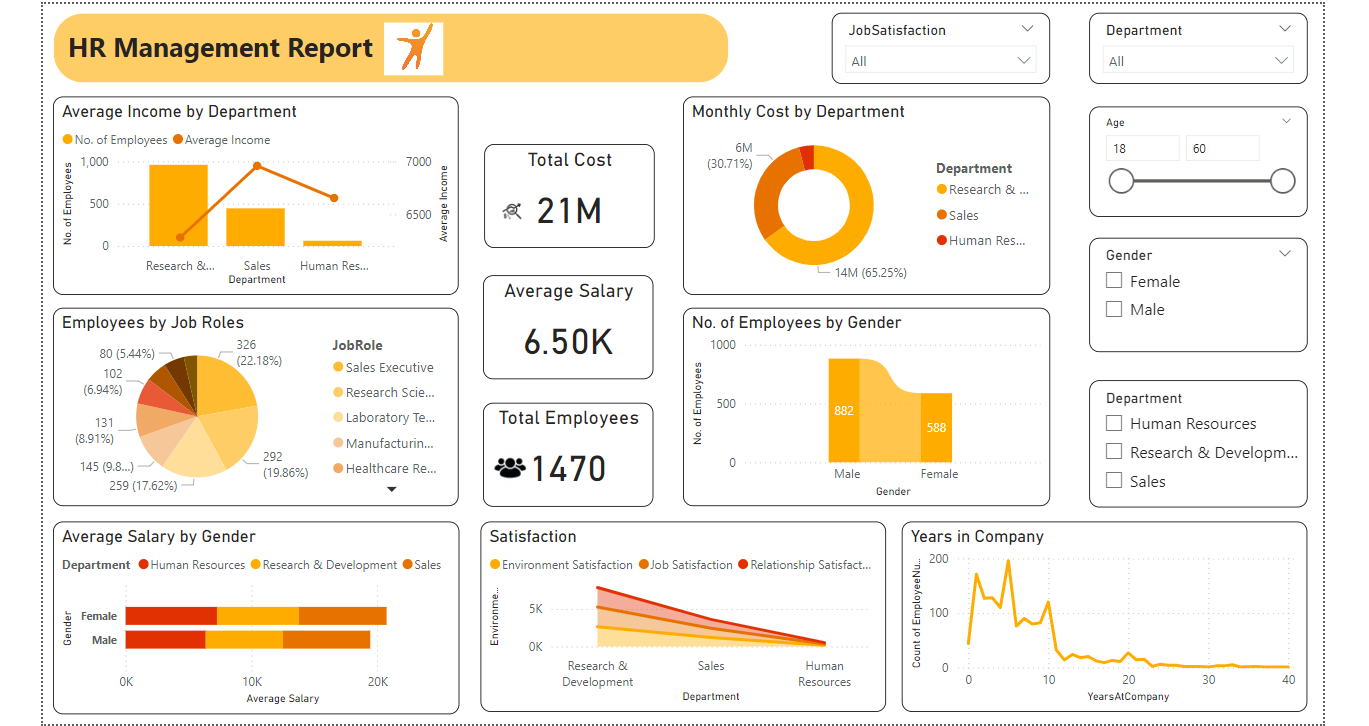

The page's visual inventory and layout, read from the dashboard file:
{"tool":"powerbi","page":{"name":"Page 1","canvas":[1280,720],"ordinal":0},"visuals":[{"type":"textbox","box":[10,8.6,675.7,70],"z":0},{"type":"card","title":"Total Employees","fields":{"Values":["Sum(WA_Fn-UseC_-HR-Employee-Attrition.EmployeeCount)"]},"box":[440,398.6,170,104.3],"z":1000},{"type":"card","title":"Total Cost","fields":{"Values":["Sum(WA_Fn-UseC_-HR-Employee-Attrition.MonthlyRate)"]},"box":[441.4,140,170,104.3],"z":2000},{"type":"ribbonChart","title":"No. of Employees by Gender","fields":{"Category":["WA_Fn-UseC_-HR-Employee-Attrition.Gender"],"Y":["Sum(WA_Fn-UseC_-HR-Employee-Attrition.EmployeeCount)"]},"box":[640,304.3,367.1,198.6],"z":3000},{"type":"slicer","fields":{"Values":["WA_Fn-UseC_-HR-Employee-Attrition.JobSatisfaction"]},"box":[788.6,8.6,218.6,71.4],"z":4000},{"type":"slicer","fields":{"Values":["WA_Fn-UseC_-HR-Employee-Attrition.Department"]},"box":[1045.7,8.6,218.6,71.4],"z":5000},{"type":"pieChart","title":"Employees by Job Roles","fields":{"Y":["Sum(WA_Fn-UseC_-HR-Employee-Attrition.EmployeeCount)"],"Category":["WA_Fn-UseC_-HR-Employee-Attrition.JobRole"]},"box":[10,304.3,405.7,198.6],"z":6000},{"type":"donutChart","title":"Monthly Cost by Department","fields":{"Category":["WA_Fn-UseC_-HR-Employee-Attrition.Department"],"Y":["Sum(WA_Fn-UseC_-HR-Employee-Attrition.MonthlyRate)"]},"box":[640,92.9,367.1,198.6],"z":7000},{"type":"slicer","fields":{"Values":["WA_Fn-UseC_-HR-Employee-Attrition.Age"]},"box":[1045.7,102.9,218.6,110],"z":8000},{"type":"slicer","fields":{"Values":["WA_Fn-UseC_-HR-Employee-Attrition.Gender"]},"box":[1045.7,234.3,218.6,114.3],"z":9000},{"type":"slicer","fields":{"Values":["WA_Fn-UseC_-HR-Employee-Attrition.Department"]},"box":[1045.7,375.7,218.6,127.1],"z":10000},{"type":"stackedAreaChart","title":"Satisfaction ","fields":{"Category":["WA_Fn-UseC_-HR-Employee-Attrition.Department"],"Y":["Sum(WA_Fn-UseC_-HR-Employee-Attrition.EnvironmentSatisfaction)","Sum(WA_Fn-UseC_-HR-Employee-Attrition.JobSatisfaction)","Sum(WA_Fn-UseC_-HR-Employee-Attrition.RelationshipSatisfaction)"]},"box":[437.1,517.1,405.7,190],"z":11000},{"type":"lineStackedColumnComboChart","title":"Average Income by Department","fields":{"Category":["WA_Fn-UseC_-HR-Employee-Attrition.Department"],"Y":["CountNonNull(WA_Fn-UseC_-HR-Employee-Attrition.EmployeeCount)"],"Y2":["Avg(WA_Fn-UseC_-HR-Employee-Attrition.MonthlyIncome)"]},"box":[10,92.9,405.7,198.6],"z":12000},{"type":"barChart","title":"Average Salary by Gender","fields":{"Y":["Avg(WA_Fn-UseC_-HR-Employee-Attrition.MonthlyIncome)"],"Category":["WA_Fn-UseC_-HR-Employee-Attrition.Gender"],"Series":["WA_Fn-UseC_-HR-Employee-Attrition.Department"]},"box":[10,517.5,406.2,192.5],"z":13000},{"type":"lineChart","title":"Years in Company","fields":{"Category":["WA_Fn-UseC_-HR-Employee-Attrition.YearsAtCompany"],"Y":["CountNonNull(WA_Fn-UseC_-HR-Employee-Attrition.EmployeeNumber)"]},"box":[858.6,517.1,405.7,190],"z":14000},{"type":"card","title":"Average Salary","fields":{"Values":["Avg(WA_Fn-UseC_-HR-Employee-Attrition.MonthlyIncome)"]},"box":[440,271.4,170,104.3],"z":15000},{"type":"image","box":[335.8,13.3,69.2,62.5],"z":16000},{"type":"image","box":[441.7,439.2,51.7,50.8],"z":17000},{"type":"image","box":[441.7,181.7,55,52.5],"z":18000}]}

Visuals, with their boxes in screenshot pixels (x1, y1, x2, y2):
textbox: pyautogui.locateOnScreen(53, 12, 726, 82)
"Total Employees" card: pyautogui.locateOnScreen(481, 401, 650, 505)
"Total Cost" card: pyautogui.locateOnScreen(482, 143, 652, 247)
"No. of Employees by Gender" ribbonChart: pyautogui.locateOnScreen(680, 307, 1046, 505)
slicer - WA_Fn-UseC_-HR-Employee-Attrition.JobSatisfaction: pyautogui.locateOnScreen(828, 12, 1046, 83)
slicer - WA_Fn-UseC_-HR-Employee-Attrition.Department: pyautogui.locateOnScreen(1084, 12, 1302, 83)
"Employees by Job Roles" pieChart: pyautogui.locateOnScreen(53, 307, 457, 505)
"Monthly Cost by Department" donutChart: pyautogui.locateOnScreen(680, 96, 1046, 294)
slicer - WA_Fn-UseC_-HR-Employee-Attrition.Age: pyautogui.locateOnScreen(1084, 106, 1302, 216)
slicer - WA_Fn-UseC_-HR-Employee-Attrition.Gender: pyautogui.locateOnScreen(1084, 237, 1302, 351)
slicer - WA_Fn-UseC_-HR-Employee-Attrition.Department: pyautogui.locateOnScreen(1084, 378, 1302, 504)
"Satisfaction " stackedAreaChart: pyautogui.locateOnScreen(478, 519, 882, 708)
"Average Income by Department" lineStackedColumnComboChart: pyautogui.locateOnScreen(53, 96, 457, 294)
"Average Salary by Gender" barChart: pyautogui.locateOnScreen(53, 519, 457, 711)
"Years in Company" lineChart: pyautogui.locateOnScreen(898, 519, 1302, 708)
"Average Salary" card: pyautogui.locateOnScreen(481, 274, 650, 378)
image: pyautogui.locateOnScreen(377, 17, 446, 79)
image: pyautogui.locateOnScreen(483, 441, 534, 492)
image: pyautogui.locateOnScreen(483, 185, 538, 237)
